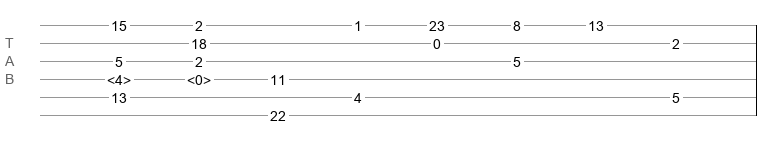0: (433, 36, 441, 46)
1: (354, 18, 362, 28)
11: (270, 72, 286, 82)
13: (111, 90, 127, 100), (588, 18, 604, 28)
15: (111, 18, 127, 28)
18: (191, 36, 207, 46)
2: (195, 18, 203, 28), (195, 54, 203, 64), (672, 36, 680, 46)
22: (270, 108, 286, 118)
23: (429, 18, 445, 28)
4: (354, 90, 362, 100)
5: (115, 54, 123, 64), (513, 54, 521, 64), (672, 90, 680, 100)
8: (513, 18, 521, 28)
harmonic: (107, 72, 131, 82), (187, 72, 211, 82)
